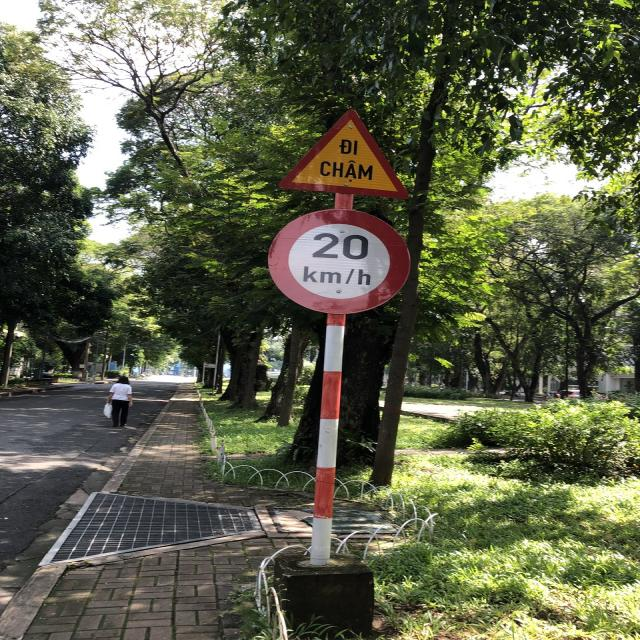Bien bao di cham: (271, 102, 416, 204)
Bien bao toc do toi da cho phep: (264, 205, 423, 319)
